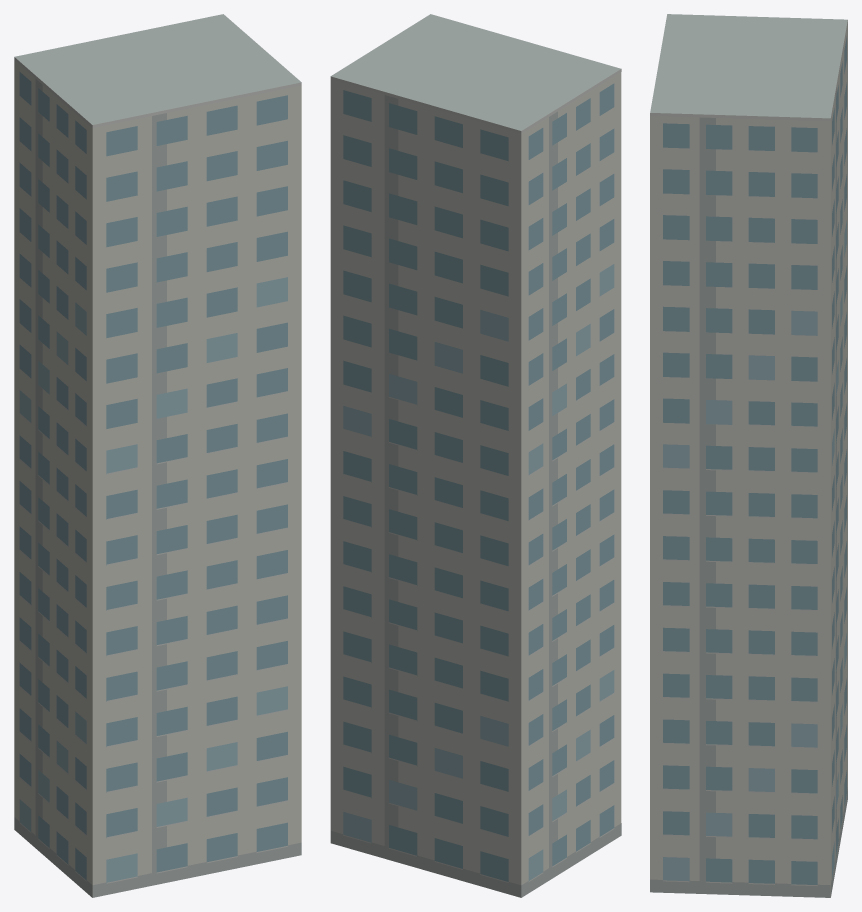
File: residential-044ac8b1-1d8e-4c33-96a4-03ca572d5821.glb
3 renders of one model, left to right at view 1: azimuth 30°, elevation 25°; view 2: azimuth 150°, elevation 25°; view 3: azimuth 270°, elevation 25°, orthographic.
Visible parts, largest first — view 1: residential-044ac8b1-1d8e-4c33-96a4-03ca572d5821.tmp; view 2: residential-044ac8b1-1d8e-4c33-96a4-03ca572d5821.tmp; view 3: residential-044ac8b1-1d8e-4c33-96a4-03ca572d5821.tmp.
Part boxes in pixels (x1,y1,x2,y2): residential-044ac8b1-1d8e-4c33-96a4-03ca572d5821.tmp: [14, 14, 301, 897]; residential-044ac8b1-1d8e-4c33-96a4-03ca572d5821.tmp: [330, 14, 621, 897]; residential-044ac8b1-1d8e-4c33-96a4-03ca572d5821.tmp: [650, 14, 847, 897].
Size of the model in its own units: 17.53 by 61 by 14.04.
